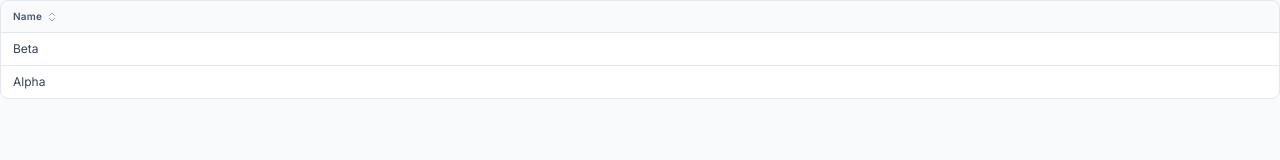
Test case: DataTable server mode › publishes local sort state on the owning column header
Later steps or results of the test are not shown.
Click the button "Name": point(36, 16) x1=13 y1=9 x2=58 y2=24
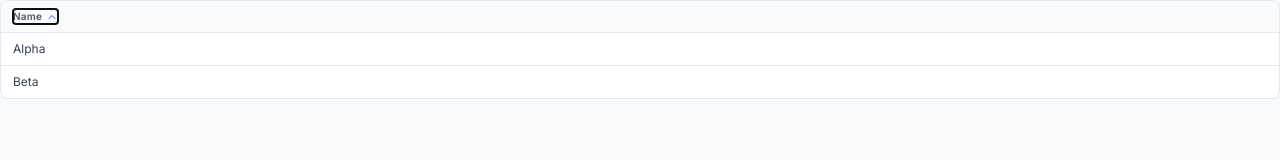
Expected: the column heading "Name" has attribute aria-sort="ascending", x1=1 y1=1 x2=1279 y2=32
